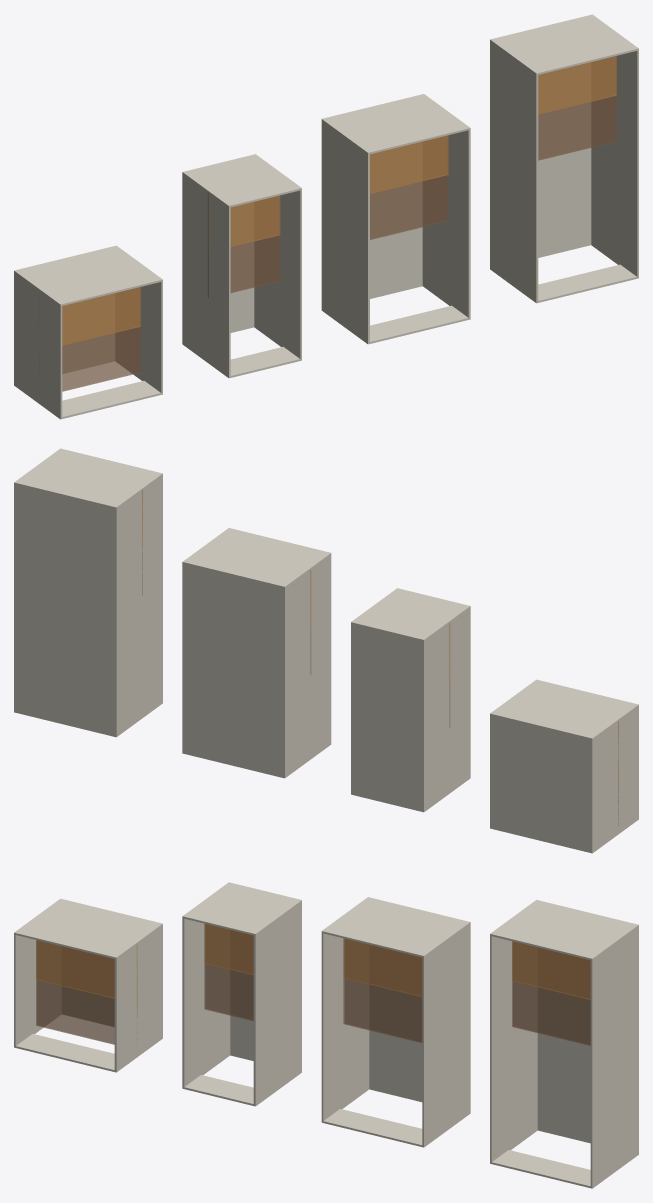
The model's file is ldg-garage-condo-shells.obj.
The picture shows the model from 3 angles, top to bottom: view 1: azimuth 30°, elevation 25°; view 2: azimuth 150°, elevation 25°; view 3: azimuth 330°, elevation 25°; orthographic projection.
Visible parts, largest first — view 1: signature_garage_condo_left_wall, deluxe_garage_condo_left_wall, signature_garage_condo_right_wall, premier_garage_condo_left_wall, signature_garage_condo_floor, deluxe_garage_condo_right_wall, premier_garage_condo_right_wall, deluxe_garage_condo_floor, standard_garage_condo_left_wall, deluxe_garage_condo_back_wall, signature_garage_condo_back_wall, standard_garage_condo_back_wall (+16 smaller); view 2: signature_garage_condo_floor, deluxe_garage_condo_floor, premier_garage_condo_floor, standard_garage_condo_floor, signature_garage_condo_left_wall, deluxe_garage_condo_left_wall, premier_garage_condo_left_wall, standard_garage_condo_left_wall, deluxe_garage_condo_back_wall, signature_garage_condo_back_wall, standard_garage_condo_back_wall, premier_garage_condo_back_wall; view 3: signature_garage_condo_right_wall, deluxe_garage_condo_right_wall, signature_garage_condo_left_wall, premier_garage_condo_right_wall, signature_garage_condo_floor, deluxe_garage_condo_left_wall, premier_garage_condo_left_wall, deluxe_garage_condo_floor, standard_garage_condo_right_wall, standard_garage_condo_back_wall, deluxe_garage_condo_back_wall, signature_garage_condo_back_wall (+16 smaller).
Part boxes in pixels (left/top/right/bottom): signature_garage_condo_left_wall: left=490, top=39, right=538, bottom=303; deluxe_garage_condo_left_wall: left=321, top=118, right=369, bottom=343; signature_garage_condo_right_wall: left=591, top=15, right=638, bottom=278; premier_garage_condo_left_wall: left=182, top=171, right=230, bottom=377; signature_garage_condo_floor: left=490, top=14, right=592, bottom=269; deluxe_garage_condo_right_wall: left=422, top=94, right=470, bottom=319; premier_garage_condo_right_wall: left=254, top=154, right=301, bottom=359; deluxe_garage_condo_floor: left=321, top=94, right=423, bottom=310; standard_garage_condo_left_wall: left=14, top=270, right=62, bottom=419; deluxe_garage_condo_back_wall: left=321, top=94, right=470, bottom=154; signature_garage_condo_back_wall: left=490, top=15, right=638, bottom=74; standard_garage_condo_back_wall: left=15, top=246, right=161, bottom=305; signature_garage_condo_floor: left=14, top=482, right=116, bottom=736; deluxe_garage_condo_floor: left=182, top=561, right=285, bottom=778; premier_garage_condo_floor: left=351, top=622, right=424, bottom=812; standard_garage_condo_floor: left=490, top=713, right=592, bottom=853; signature_garage_condo_left_wall: left=114, top=473, right=162, bottom=737; deluxe_garage_condo_left_wall: left=284, top=552, right=331, bottom=777; premier_garage_condo_left_wall: left=422, top=605, right=470, bottom=811; standard_garage_condo_left_wall: left=590, top=704, right=638, bottom=853; deluxe_garage_condo_back_wall: left=182, top=528, right=330, bottom=587; signature_garage_condo_back_wall: left=16, top=448, right=162, bottom=508; standard_garage_condo_back_wall: left=490, top=679, right=638, bottom=738; premier_garage_condo_back_wall: left=351, top=588, right=469, bottom=641; signature_garage_condo_right_wall: left=590, top=925, right=638, bottom=1188; deluxe_garage_condo_right_wall: left=422, top=921, right=470, bottom=1147; signature_garage_condo_left_wall: left=490, top=900, right=537, bottom=1163; premier_garage_condo_right_wall: left=253, top=900, right=301, bottom=1106; signature_garage_condo_floor: left=536, top=900, right=638, bottom=1154; deluxe_garage_condo_left_wall: left=321, top=898, right=369, bottom=1120; premier_garage_condo_left_wall: left=182, top=882, right=230, bottom=1088; deluxe_garage_condo_floor: left=368, top=897, right=470, bottom=1113; standard_garage_condo_right_wall: left=114, top=923, right=162, bottom=1072; standard_garage_condo_back_wall: left=14, top=899, right=161, bottom=959; deluxe_garage_condo_back_wall: left=322, top=897, right=467, bottom=957; signature_garage_condo_back_wall: left=490, top=900, right=638, bottom=960.
Size of the model in its own units: 158 by 60 by 22.
